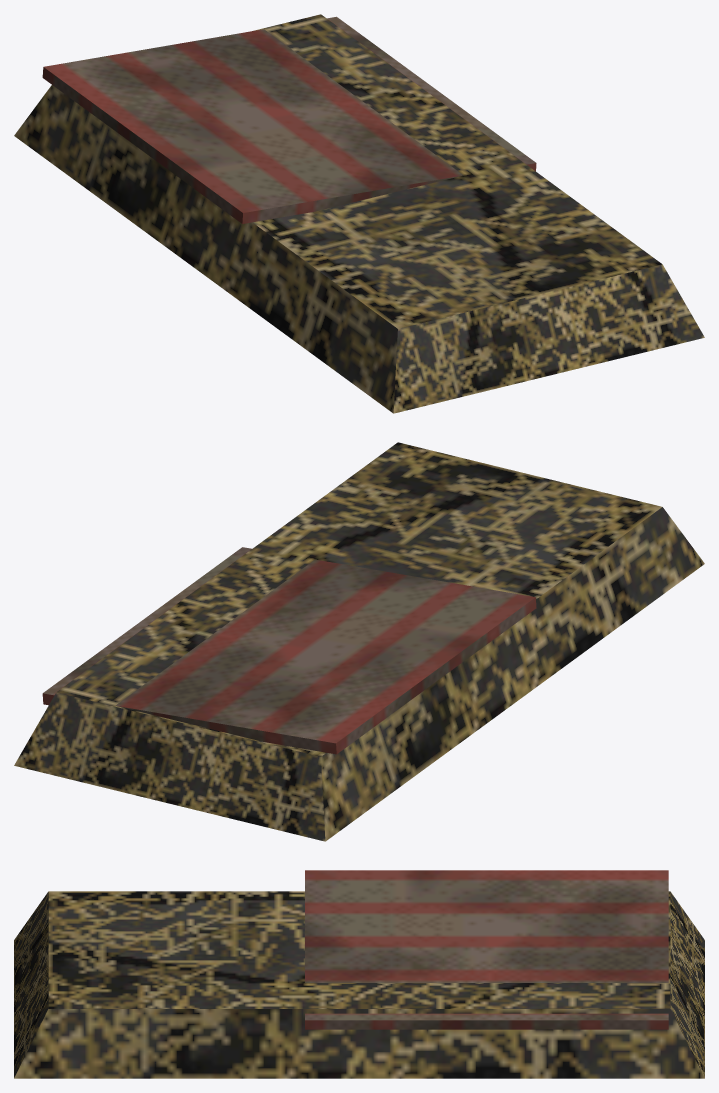
Rendered from bed_straw.fbx.
The picture shows the model from 3 angles, top to bottom: view 1: azimuth 30°, elevation 25°; view 2: azimuth 150°, elevation 25°; view 3: azimuth 270°, elevation 25°; orthographic projection. The views are drawn at different scales.
Parts seen in each view (by area): view 1: bed_straw; view 2: bed_straw; view 3: bed_straw.
Boxes of the visible parts, x1,y1,x2,y2 form: bed_straw: [14, 14, 704, 413]; bed_straw: [14, 442, 704, 841]; bed_straw: [14, 870, 704, 1078].
Bounding box in the file's own units: 0.9 × 0.2246 × 1.9.
1 material, 1 textured.
